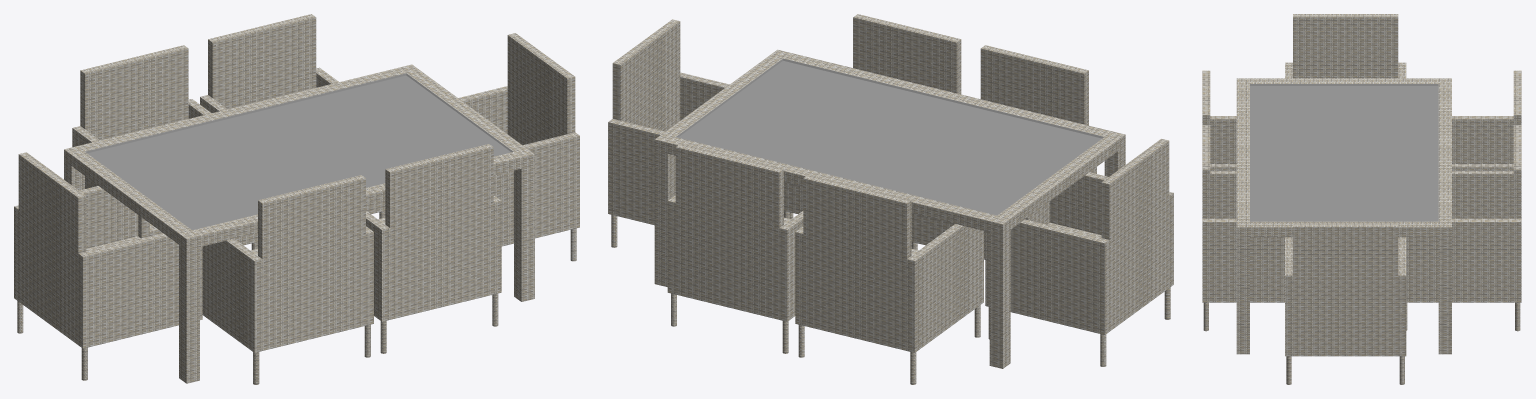
File: garden furniture 1.dae
3 renders of one model, left to right at view 1: azimuth 30°, elevation 25°; view 2: azimuth 150°, elevation 25°; view 3: azimuth 270°, elevation 25°, orthographic. The views are drawn at different scales.
Visible parts, largest first — view 1: group_0 (×3), group_1, group_5, group_8, group_7, group_11, group_9, group_4, group_3, group_6, group_10, group_2 (+1 smaller); view 2: group_0 (×3), group_11, group_9, group_8, group_7, group_10, group_4, group_1, group_5, group_3, group_6, group_12 (+1 smaller); view 3: group_0 (×3), group_3, group_12, group_2, group_7, group_10, group_6, group_4, group_1, group_11, group_5, group_9 (+1 smaller).
Boxes of the visible parts, x1,y1,x2,y2 form: group_0 (×3): (64, 64, 534, 383); group_1: (382, 144, 501, 321); group_5: (254, 175, 373, 352); group_8: (14, 186, 202, 348); group_7: (14, 152, 86, 348); group_11: (208, 14, 316, 109); group_9: (80, 45, 188, 140); group_4: (458, 86, 579, 246); group_3: (507, 33, 575, 145); group_6: (202, 226, 373, 352); group_10: (72, 99, 257, 245); group_2: (366, 195, 501, 321); group_0 (×3): (654, 49, 1125, 368); group_11: (667, 144, 787, 321); group_9: (795, 175, 914, 352); group_8: (985, 172, 1173, 334); group_7: (1102, 138, 1173, 334); group_10: (796, 224, 983, 352); group_4: (608, 63, 729, 225); group_1: (853, 14, 961, 94); group_5: (980, 45, 1088, 125); group_3: (613, 19, 680, 131); group_6: (911, 167, 1096, 259); group_12: (668, 195, 803, 321); group_0 (×3): (1236, 78, 1451, 354); group_3: (1285, 223, 1406, 356); group_12: (1406, 169, 1521, 302); group_2: (1202, 169, 1284, 302); group_7: (1293, 14, 1398, 78); group_10: (1452, 115, 1521, 170); group_6: (1202, 115, 1236, 170); group_4: (1285, 237, 1406, 275); group_1: (1202, 125, 1210, 169); group_11: (1513, 125, 1521, 169); group_5: (1202, 70, 1210, 114); group_9: (1513, 70, 1521, 114).
Size of the model in its own units: 73.62 by 46.71 by 25.59.
Materials: 3 (1 with a texture image).
